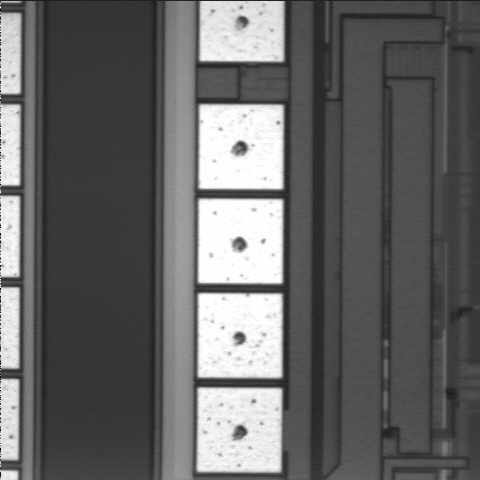pad: (198, 199, 283, 284), (199, 104, 283, 189), (198, 293, 282, 378), (197, 388, 282, 472)
